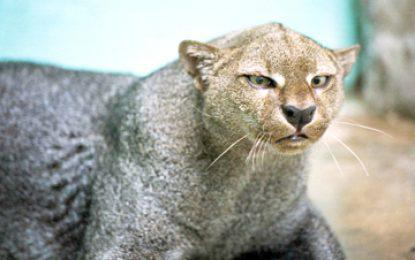Jaguarundi: (9, 19, 371, 254)
